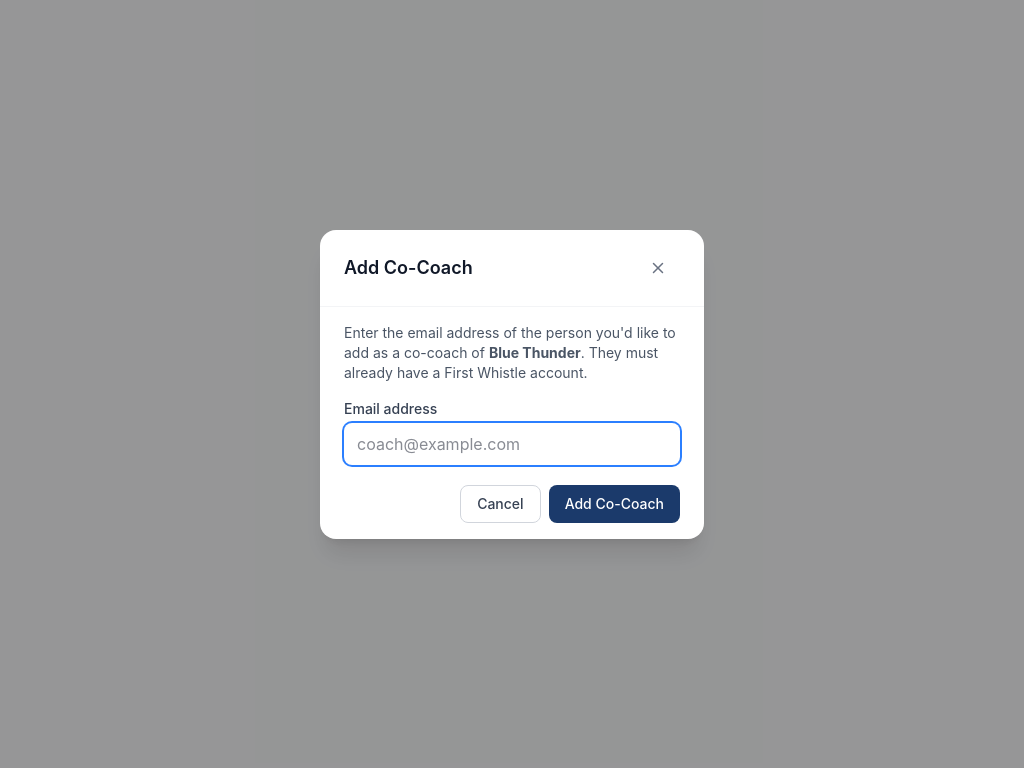
Test: AssignCoCoachModal — successful submit › success banner includes displayName from CF result and the teamName prop
Type "sam@example.com" into the field labelled "Email address".
click(512, 444); type("sam@example.com")  # box top-left (344, 422), bottom-right (680, 464)
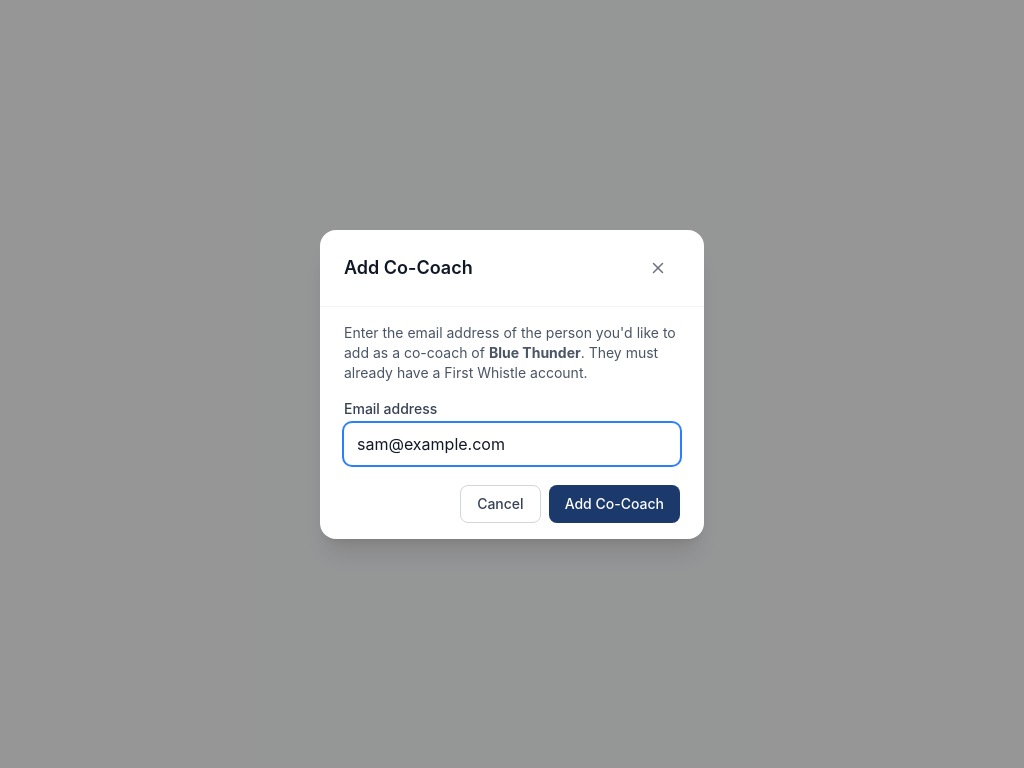
Click the button "Add Co-Coach".
click(614, 504)  # box top-left (549, 484), bottom-right (680, 522)
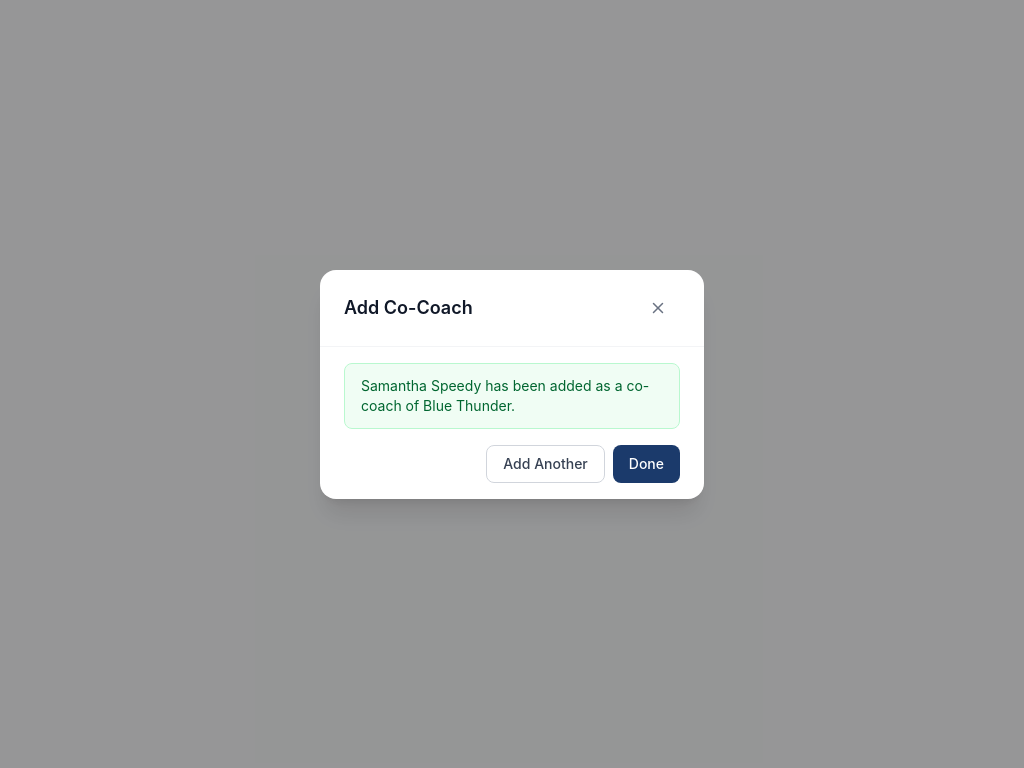
Result: the message shows "Samantha Speedy" at top-left (361, 376), bottom-right (649, 414)
Result: the message shows "Blue Thunder" at top-left (361, 376), bottom-right (649, 414)
